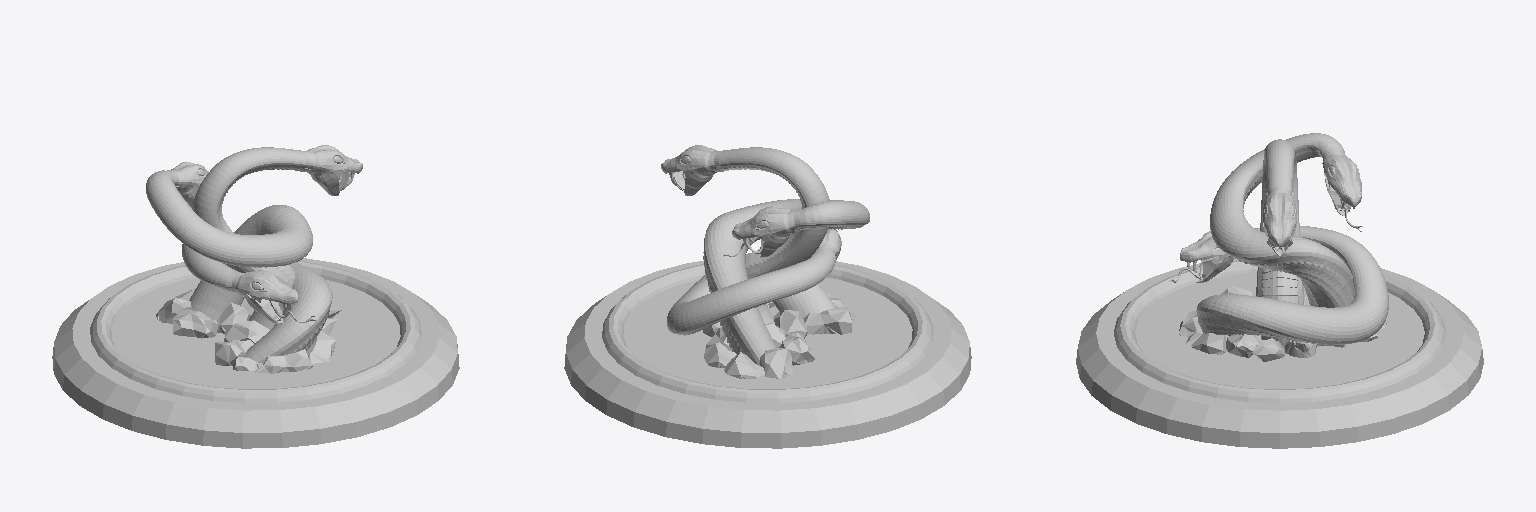
Rendered from HydraStatue.obj.
3 renders of one model, left to right at view 1: azimuth 30°, elevation 25°; view 2: azimuth 150°, elevation 25°; view 3: azimuth 270°, elevation 25°, orthographic.
Visible parts, largest first — view 1: HydraStatueBase_Cylinder.013, StoneHydra_Cylinder.001; view 2: HydraStatueBase_Cylinder.013, StoneHydra_Cylinder.001; view 3: HydraStatueBase_Cylinder.013, StoneHydra_Cylinder.001.
Boxes of the visible parts, x1,y1,x2,y2 form: HydraStatueBase_Cylinder.013: [52, 258, 459, 448]; StoneHydra_Cylinder.001: [146, 145, 362, 363]; HydraStatueBase_Cylinder.013: [564, 261, 971, 448]; StoneHydra_Cylinder.001: [661, 145, 869, 365]; HydraStatueBase_Cylinder.013: [1076, 258, 1483, 448]; StoneHydra_Cylinder.001: [1168, 133, 1388, 348].
Bounding box in the file's own units: 12.1 × 6.97 × 12.1.